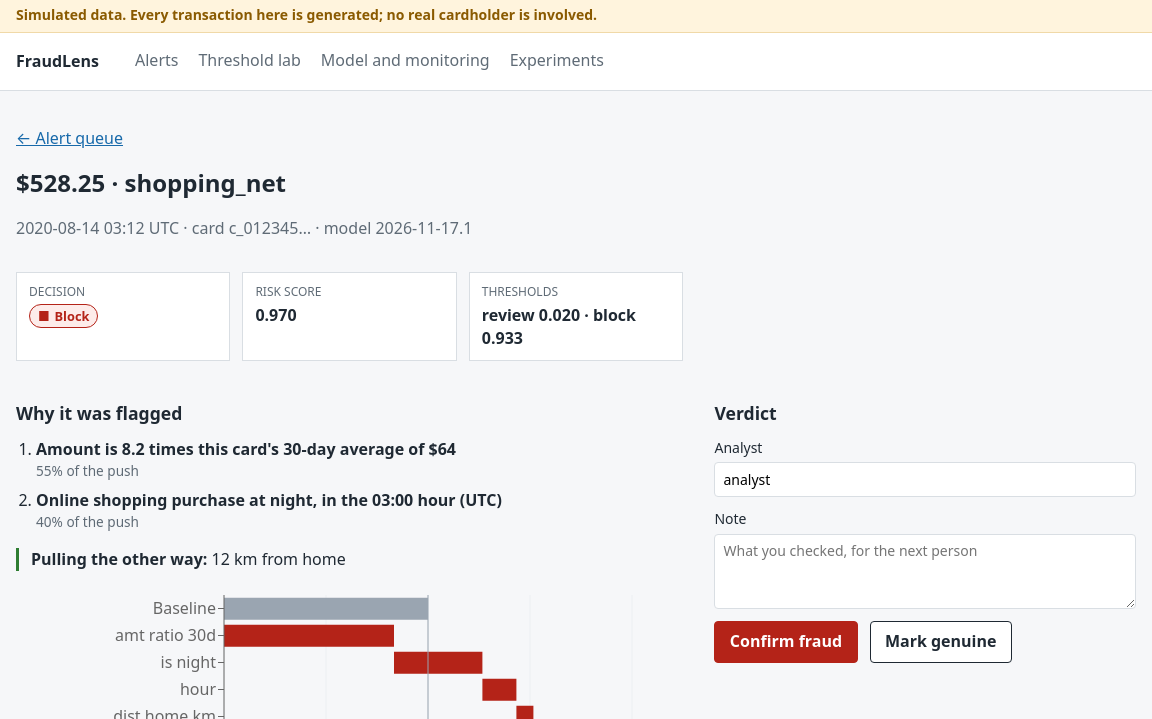
case view › shows the API's reason when a disposition fails
Click the button "Mark genuine".
click(941, 642)  # box [870,621,1012,663]
(page scrolled)
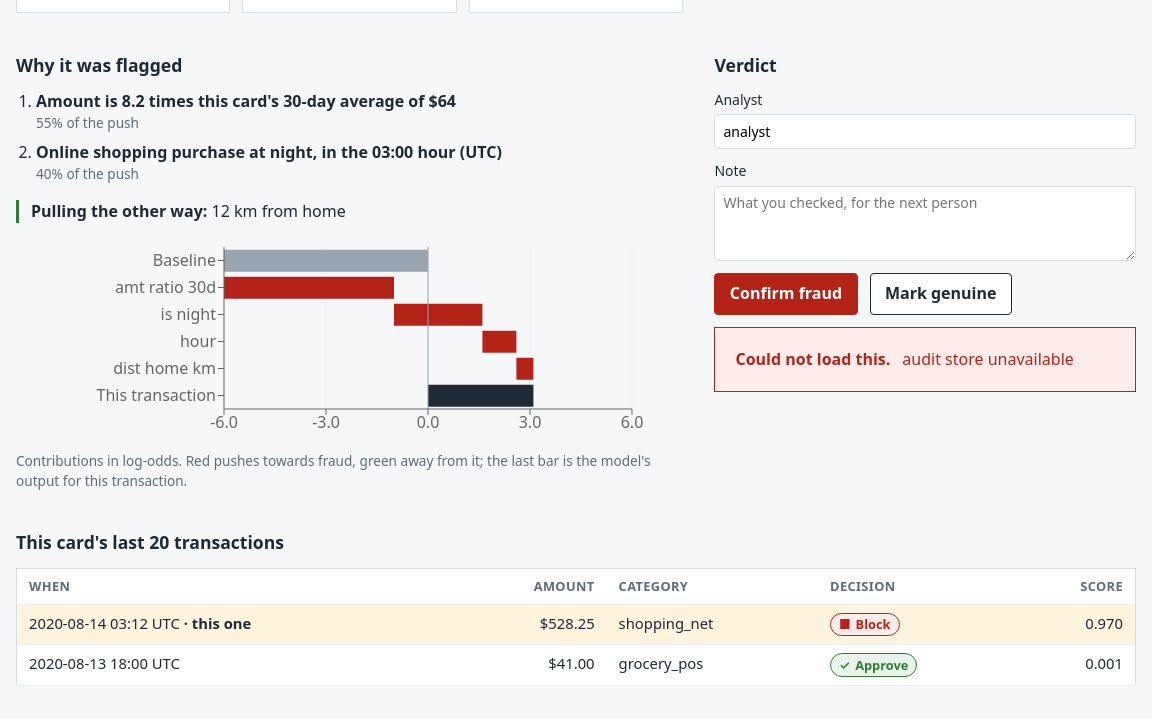
Expected: the message shows "audit store unavailable", [902,348,1074,370]
